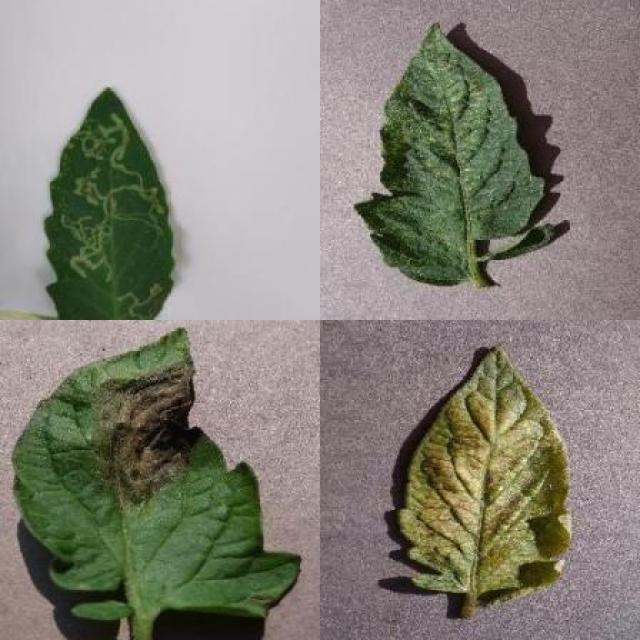Late Blight: (12, 326, 305, 620)
Leaf Miner: (44, 86, 176, 317)
Spider Mites: (354, 22, 546, 288), (397, 344, 576, 592)
